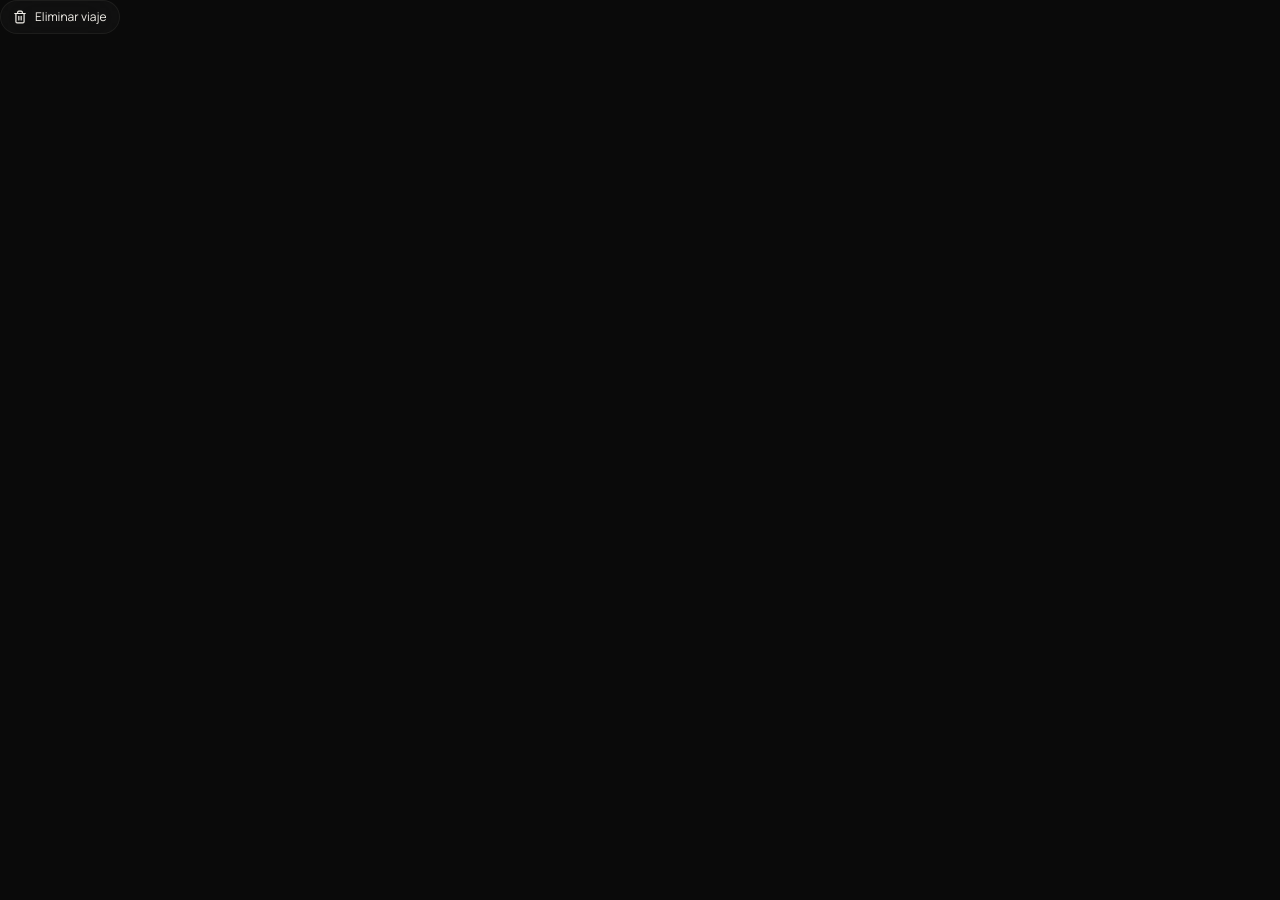
Test case: TripDeleteButton › dueño: confirma, borra el viaje, purga archivos y regresa a Mis viajes
Click the button "Eliminar viaje" at (60,17), box top-left (0, 0), bottom-right (120, 34)
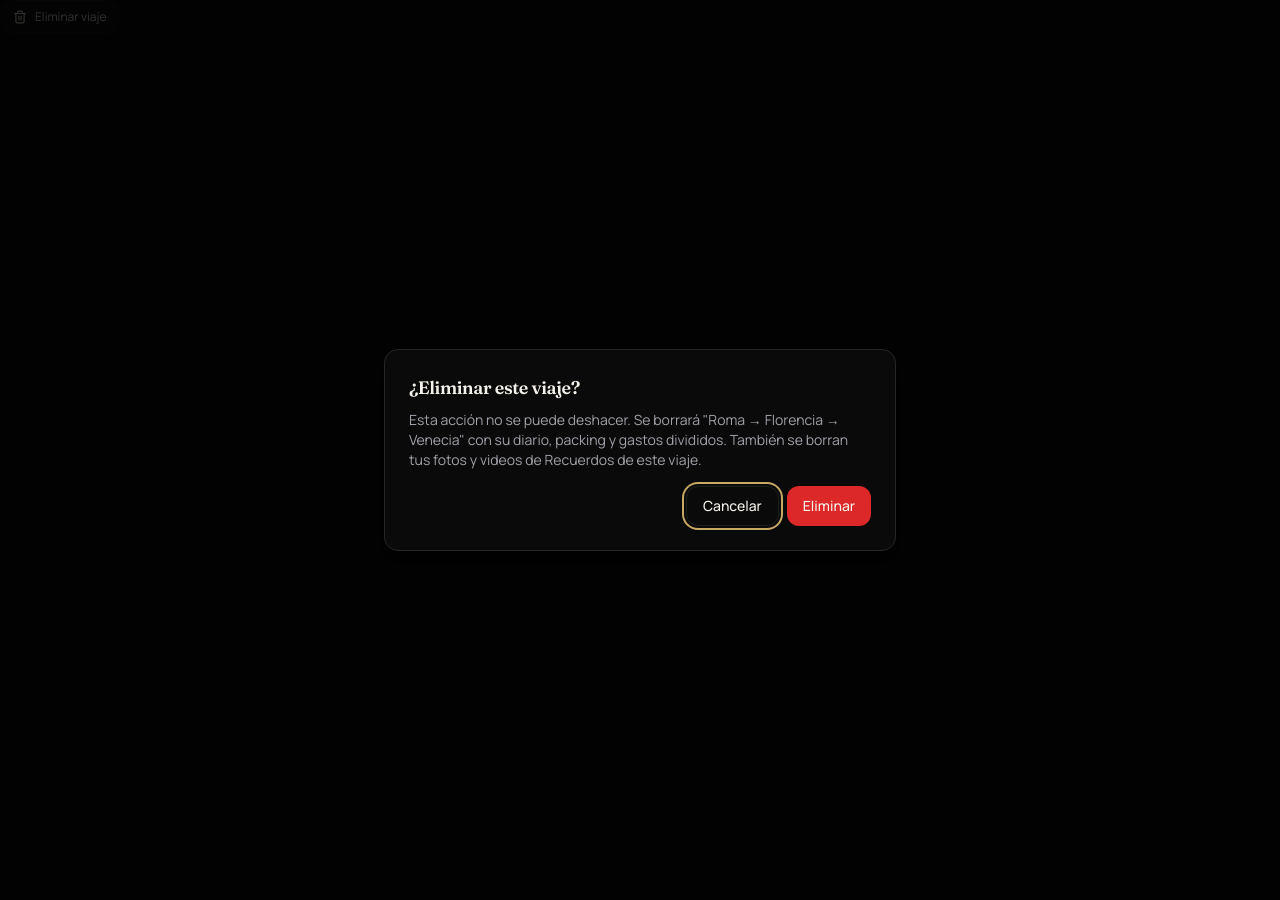
Result: the heading "¿Eliminar este viaje?" is shown at top-left (409, 376), bottom-right (580, 399)
Result: the text "También se borran tus fotos y videos de Recuerdos de este viaje." is shown at top-left (409, 410), bottom-right (848, 469)
Click the button "Eliminar" at (829,506), box top-left (787, 486), bottom-right (871, 526)
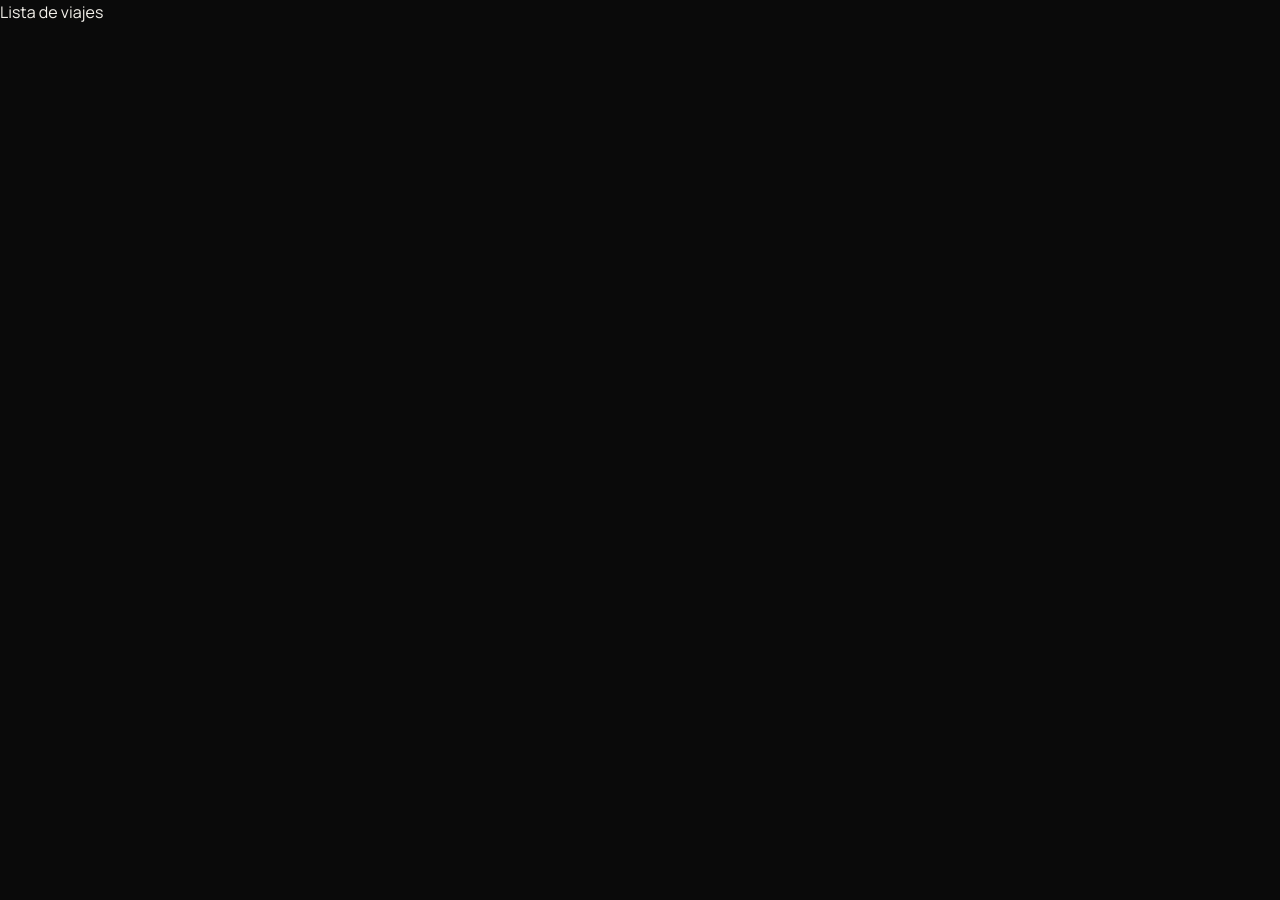
Result: the text "Lista de viajes" is shown at top-left (0, 1), bottom-right (103, 23)
